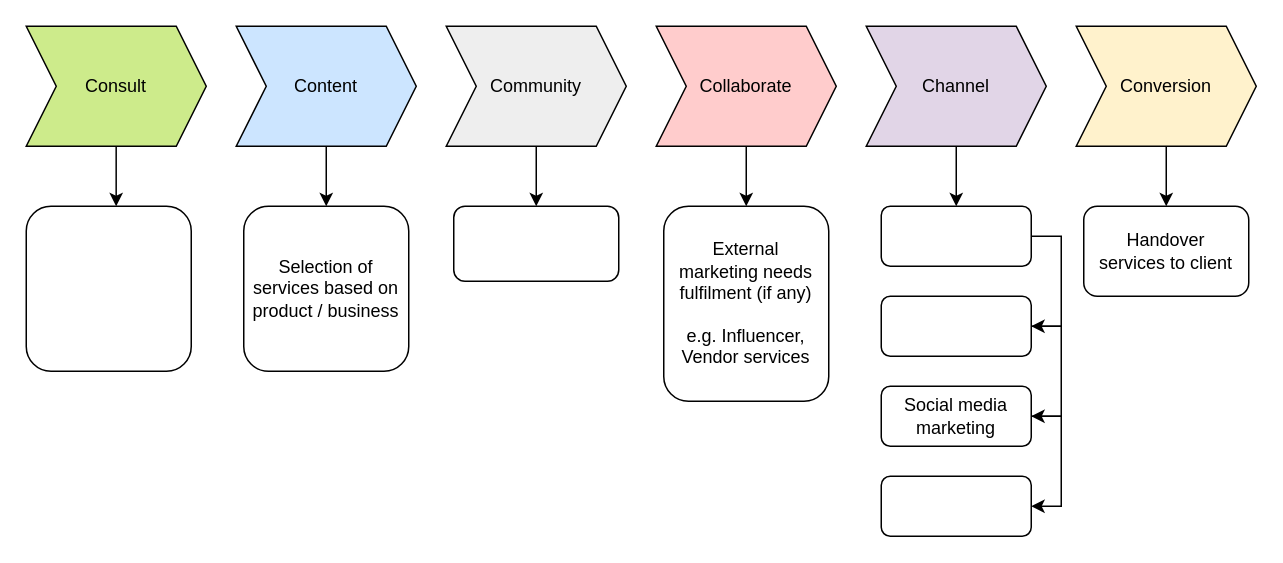
The diagram is 1283 pixels wide and 563 high, and some of its shapes have lost their labels. Each missing label, with the centre of its shape:
"Digital marketing" belongs at point (955, 235).
"Email marketing" belongs at point (955, 325).
"Format meet with client and understand about product / business" belongs at point (108, 288).
"Identifying target audience" belongs at point (535, 243).
"Offline marketing" belongs at point (955, 505).
